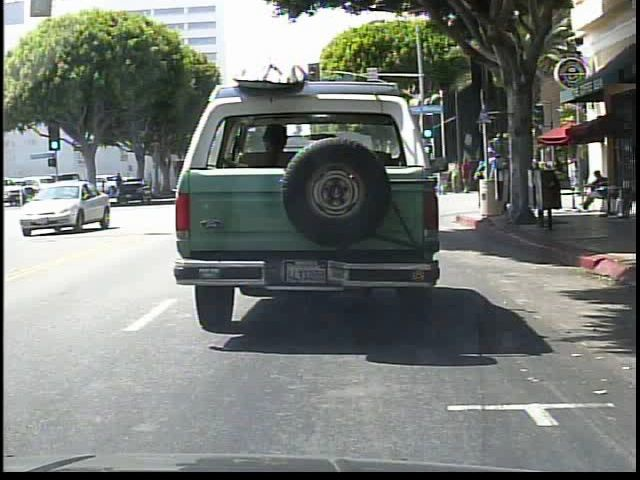person: (580, 168, 612, 211), (485, 148, 501, 208), (496, 155, 512, 214), (473, 157, 488, 210), (534, 161, 547, 205), (459, 157, 473, 195), (527, 165, 539, 202), (452, 160, 462, 194), (437, 163, 447, 196), (569, 158, 578, 192), (426, 171, 437, 198)
